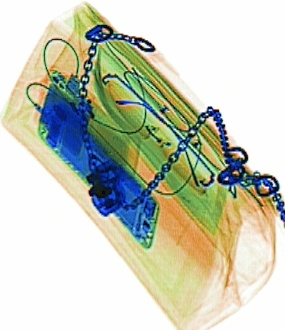powerbank: (34, 67, 95, 158)
